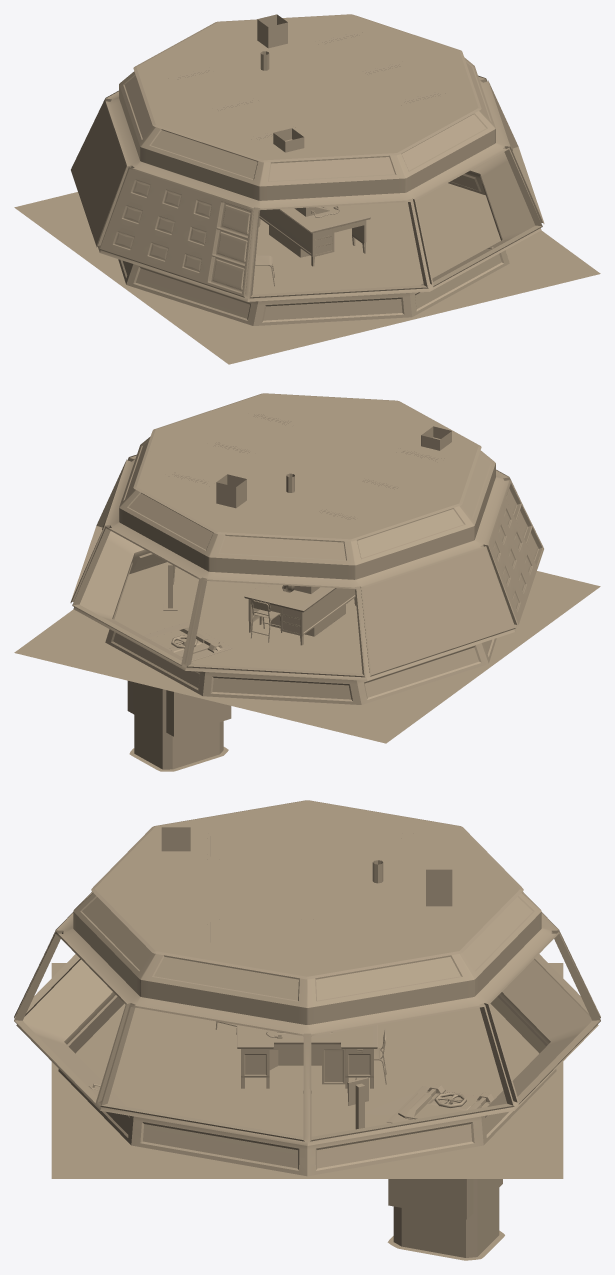
File: Salle.fbx
The picture shows the model from 3 angles, top to bottom: view 1: azimuth 30°, elevation 25°; view 2: azimuth 150°, elevation 25°; view 3: azimuth 270°, elevation 25°; orthographic projection. The views are drawn at different scales.
Parts seen in each view (by area): view 1: Room, Roof, Floor, EcransEtats, Ecrans, Desk, Aération; view 2: Room, Roof, Floor, Ecrans, EcransEtats, Desk, Acceuille, Aération, door, Chair; view 3: Room, Floor, Roof, Desk, Acceuille, Aération, door, PoteauExit.
Part boxes in pixels (bbox=[...]): Room: bbox=[76, 14, 544, 327]; Roof: bbox=[136, 14, 478, 160]; Floor: bbox=[14, 183, 600, 364]; EcransEtats: bbox=[100, 169, 252, 296]; Ecrans: bbox=[71, 101, 126, 245]; Desk: bbox=[258, 205, 370, 266]; Aération: bbox=[257, 14, 304, 152]; Room: bbox=[70, 393, 522, 706]; Roof: bbox=[136, 393, 478, 539]; Floor: bbox=[14, 562, 600, 771]; Ecrans: bbox=[362, 548, 514, 675]; EcransEtats: bbox=[488, 480, 543, 624]; Desk: bbox=[244, 584, 356, 645]; Acceuille: bbox=[127, 622, 232, 736]; Aération: bbox=[216, 426, 451, 508]; door: bbox=[149, 627, 219, 654]; Chair: bbox=[251, 599, 282, 642]; Room: bbox=[14, 800, 600, 1177]; Floor: bbox=[51, 963, 563, 1260]; Roof: bbox=[94, 800, 520, 976]; Desk: bbox=[237, 1025, 377, 1088]; Acceuille: bbox=[387, 1086, 502, 1219]; Aération: bbox=[161, 827, 452, 906]; door: bbox=[398, 1092, 489, 1119]; PoteauExit: bbox=[347, 1077, 368, 1129].
Bounding box in the file's own units: 920 × 590 × 938.
